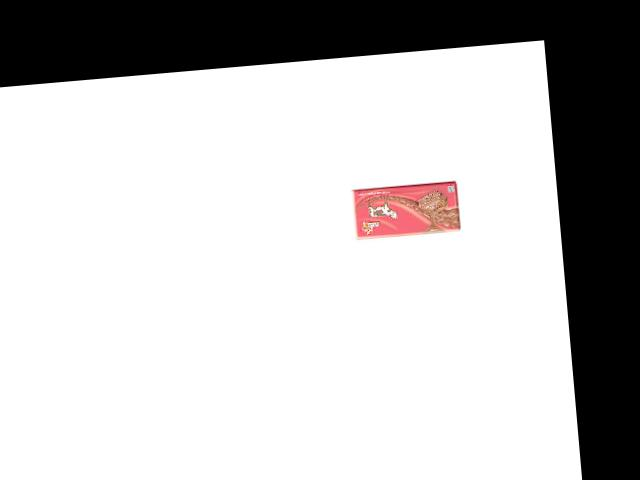chocolate: (362, 189, 465, 249)
